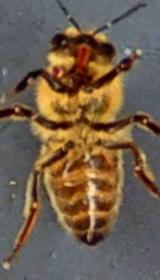varroa_mite: (50, 62, 68, 80)
